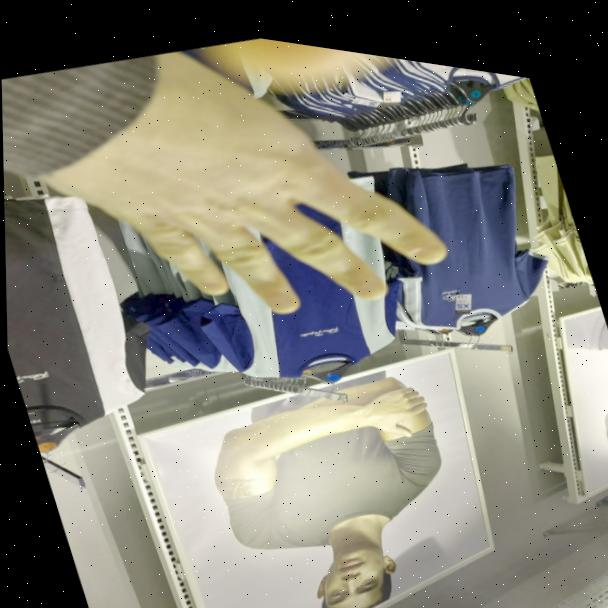four: (48, 9, 464, 379)
